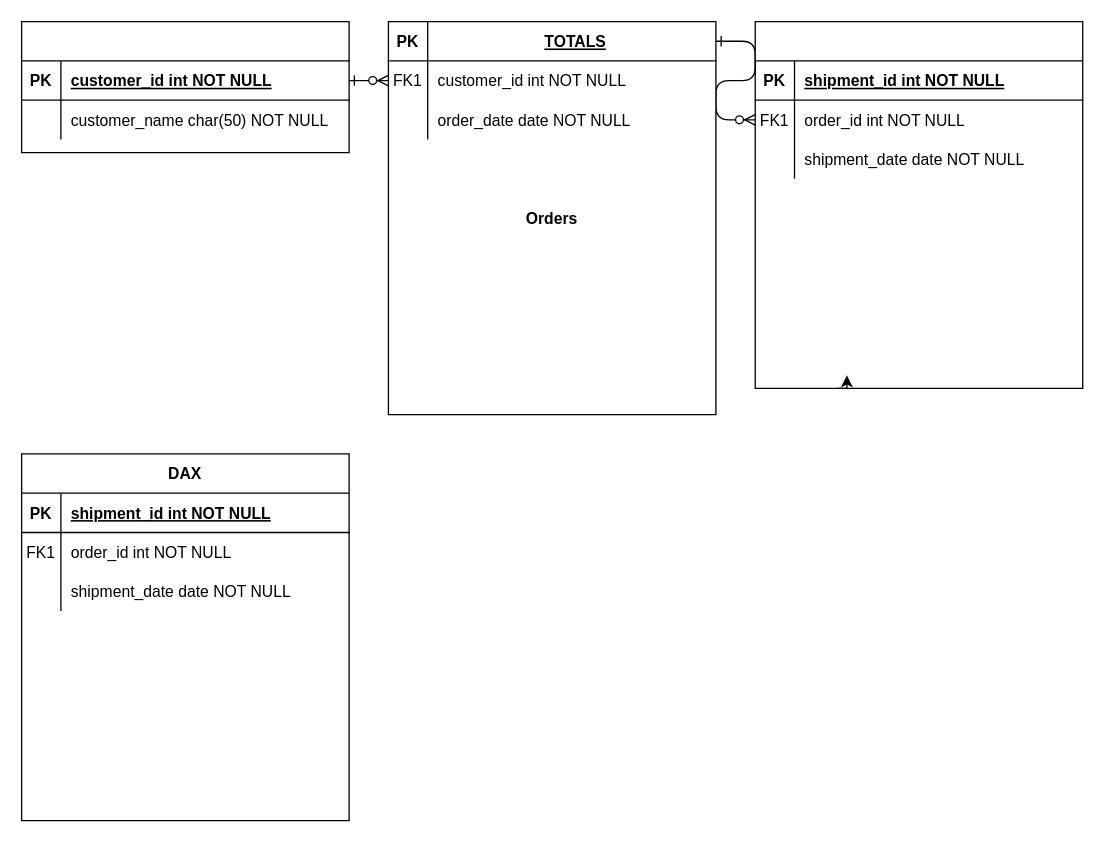
This 1104x842 diagram has some shape labels left out. Here are the shapes that lost their labels. From the top down, the box of each, then its label:
(20, 20, 349, 153): ORGANISATIONS
(754, 20, 1083, 388): ACTIONS
